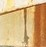Corrosion: (33, 2, 46, 47)
